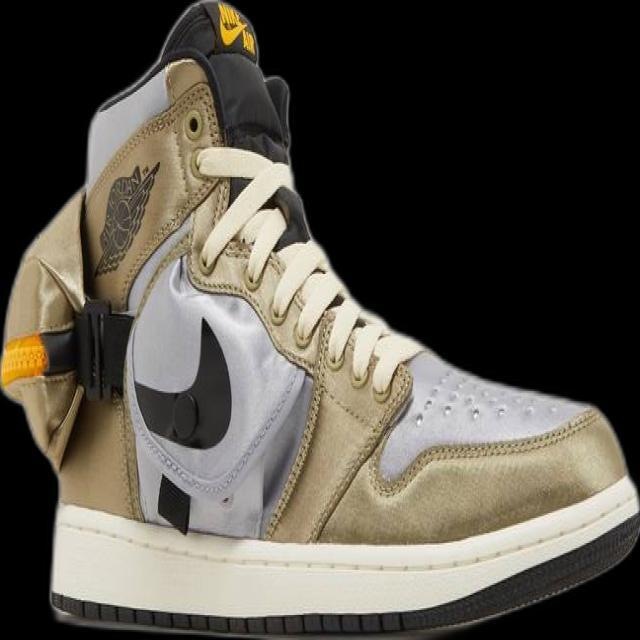J1_InsoleChar: (0, 0, 639, 639)
J1_ShoeLogo: (133, 316, 234, 450), (91, 159, 161, 278), (214, 0, 259, 63)
J1_StitchPattern: (184, 139, 598, 542), (161, 65, 413, 540), (188, 142, 417, 397), (265, 242, 410, 396), (368, 404, 600, 498), (47, 590, 409, 638), (192, 143, 302, 282), (266, 247, 345, 344), (408, 368, 511, 430)
